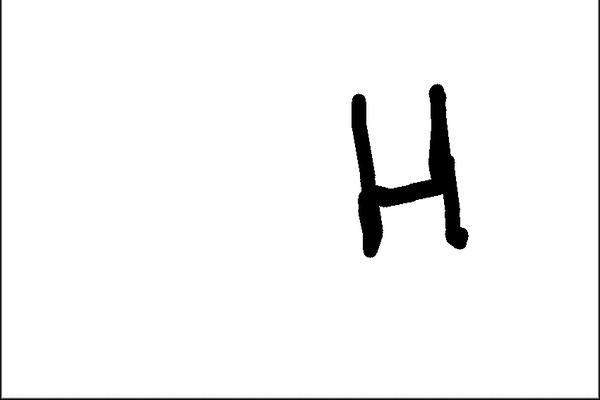H: (348, 82, 473, 256)
